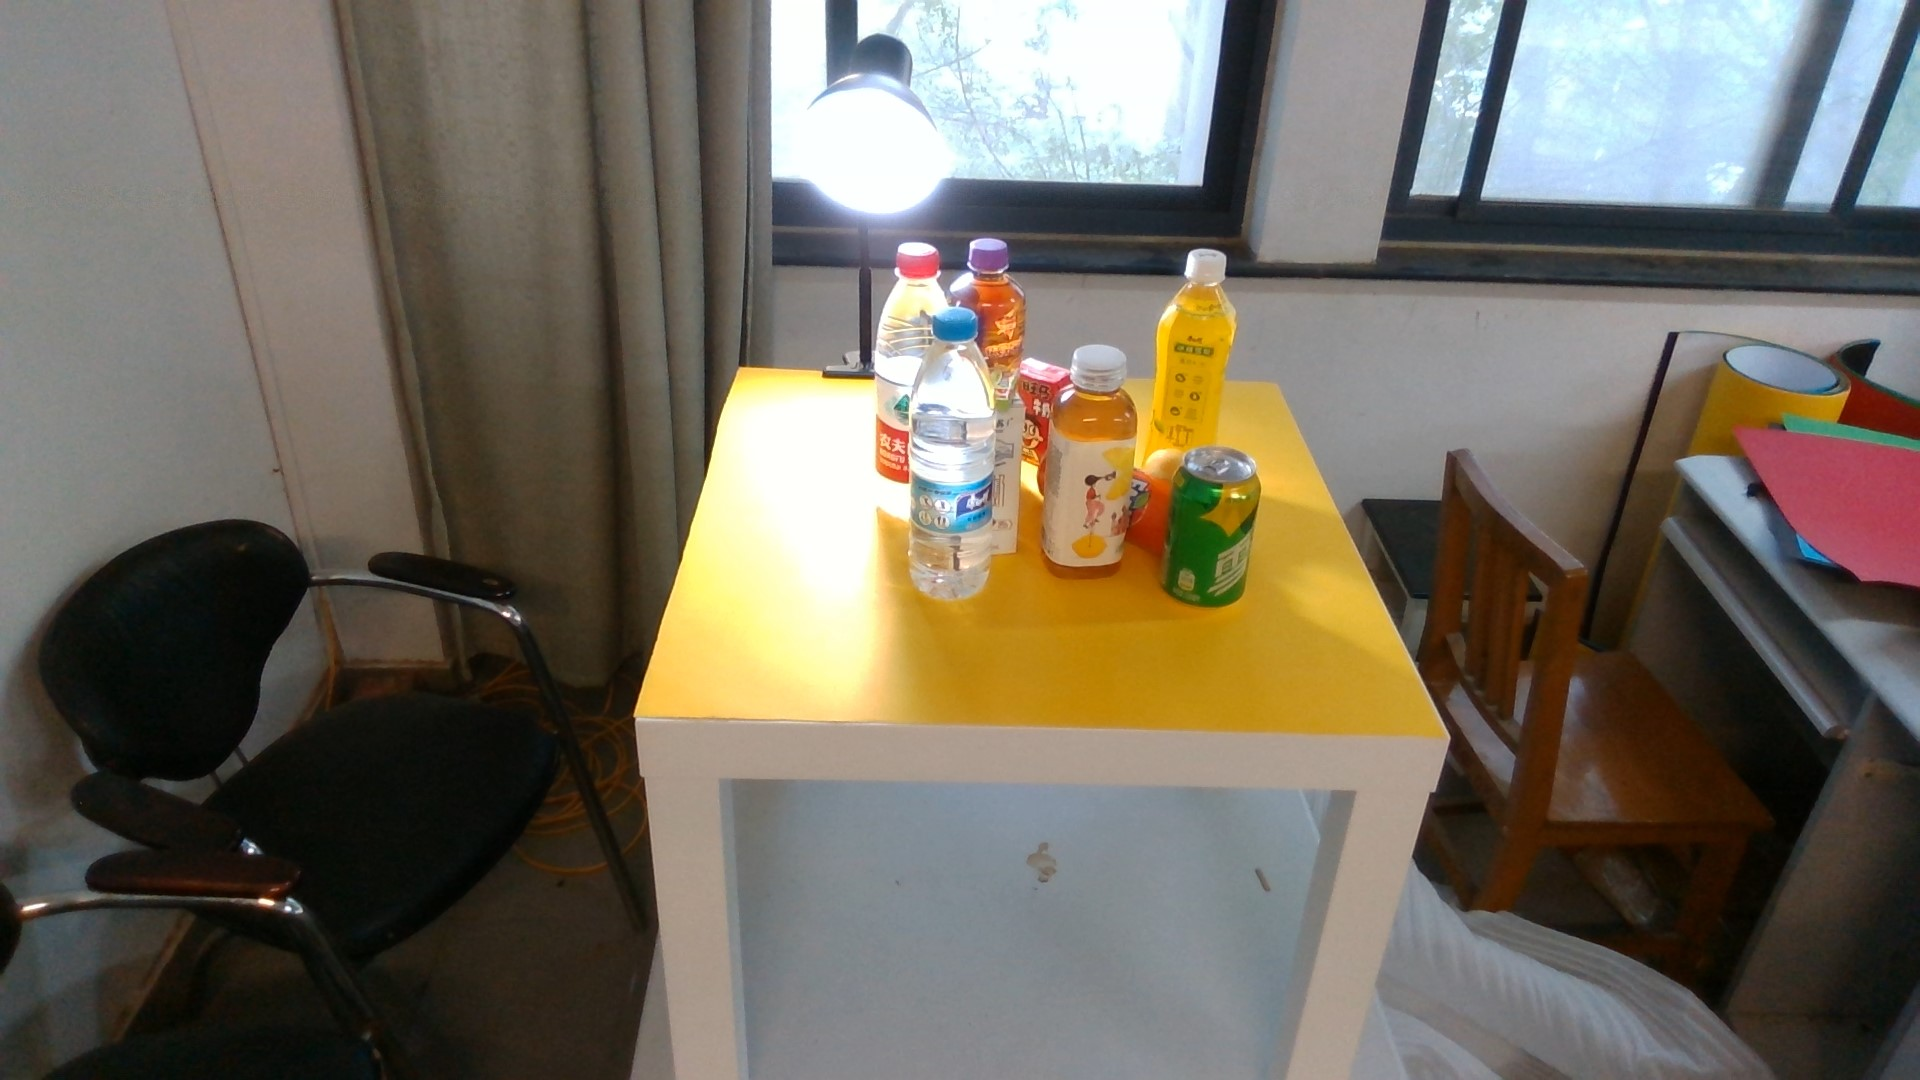BB010: (996, 394, 1022, 556)
BB012: (1026, 357, 1047, 459)
ZC001: (1160, 444, 1259, 609)
ZC003: (1133, 471, 1163, 546)
ZC009: (993, 239, 1030, 394)
ZC011: (1155, 248, 1236, 440)
ZC012: (1047, 344, 1134, 582)
ZC014: (872, 239, 909, 520)
ZC019: (909, 310, 993, 600)
